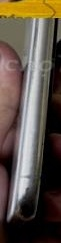scratch: (14, 180, 42, 211)
